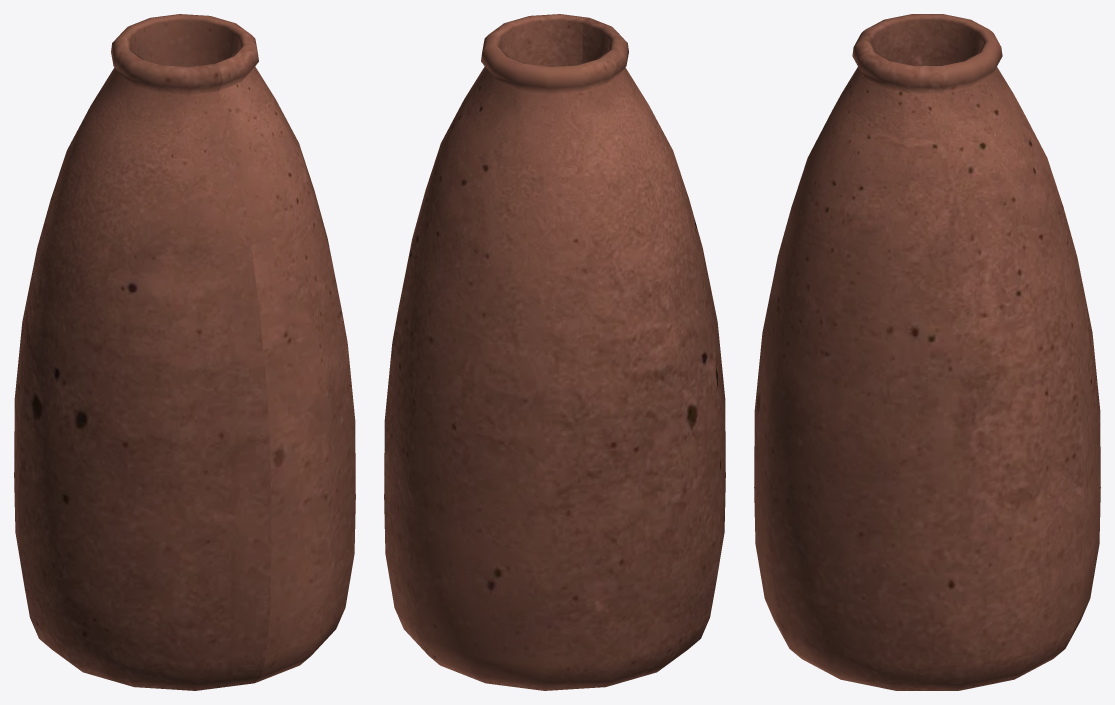
The model's file is Vase_04.glb.
3 renders of one model, left to right at view 1: azimuth 30°, elevation 25°; view 2: azimuth 150°, elevation 25°; view 3: azimuth 270°, elevation 25°, orthographic.
Visible parts, largest first — view 1: SM_Vase_04; view 2: SM_Vase_04; view 3: SM_Vase_04.
Part boxes in pixels (x1,y1,x2,y2): SM_Vase_04: (14, 14, 355, 690); SM_Vase_04: (384, 14, 725, 690); SM_Vase_04: (754, 14, 1100, 690).
Size of the model in its own units: 0.1636 by 0.3214 by 0.168.
Materials: 1 (1 with a texture image).
